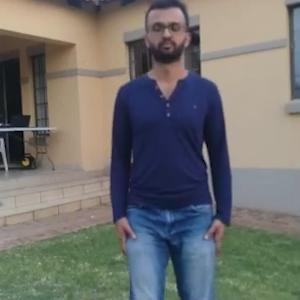follow: (112, 15, 220, 299)
